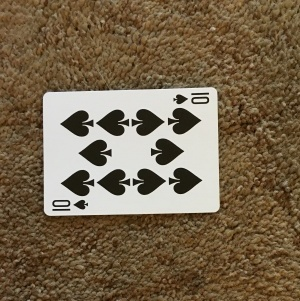card: (40, 84, 222, 217)
